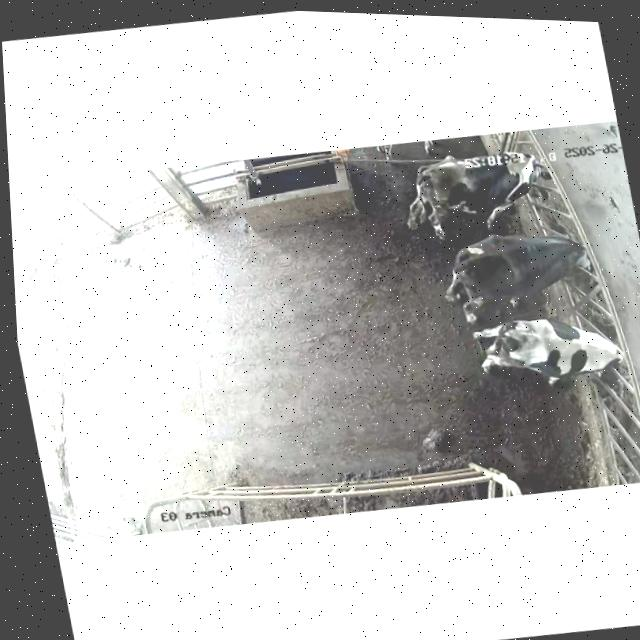eat: (481, 140, 582, 217), (516, 222, 620, 292), (574, 323, 640, 385)
